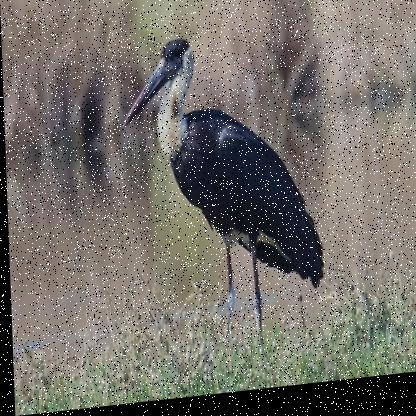Burung: (119, 23, 333, 377)
